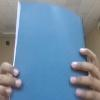notebook: (9, 0, 90, 99)
